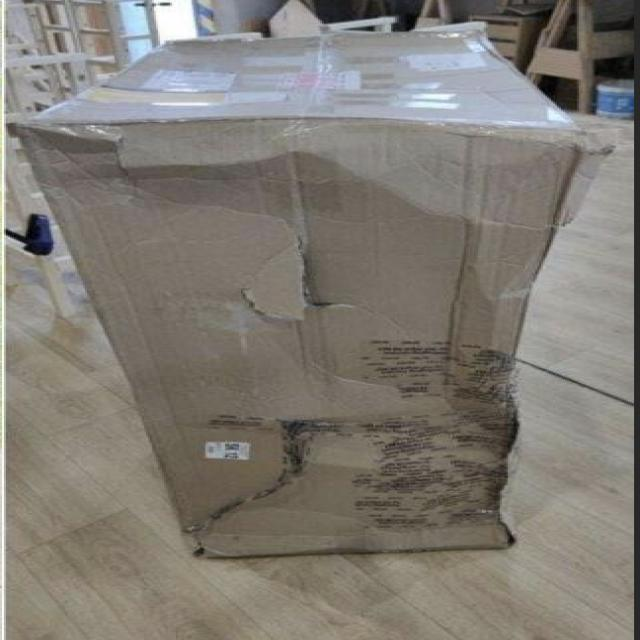hole: (259, 248, 350, 320)
wet: (361, 337, 528, 550)
